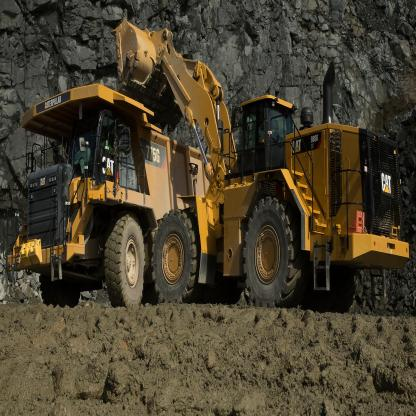bull_dozer/loader/grader: (109, 14, 410, 316)
